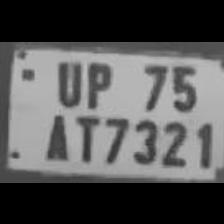1: (189, 115, 217, 167)
2: (157, 116, 189, 166)
3: (126, 114, 158, 164)
5: (167, 60, 199, 110)
7: (136, 60, 168, 110), (100, 110, 128, 164)
A: (40, 107, 70, 161)
P: (81, 57, 113, 106)
T: (69, 111, 100, 163)
U: (52, 56, 84, 106)
